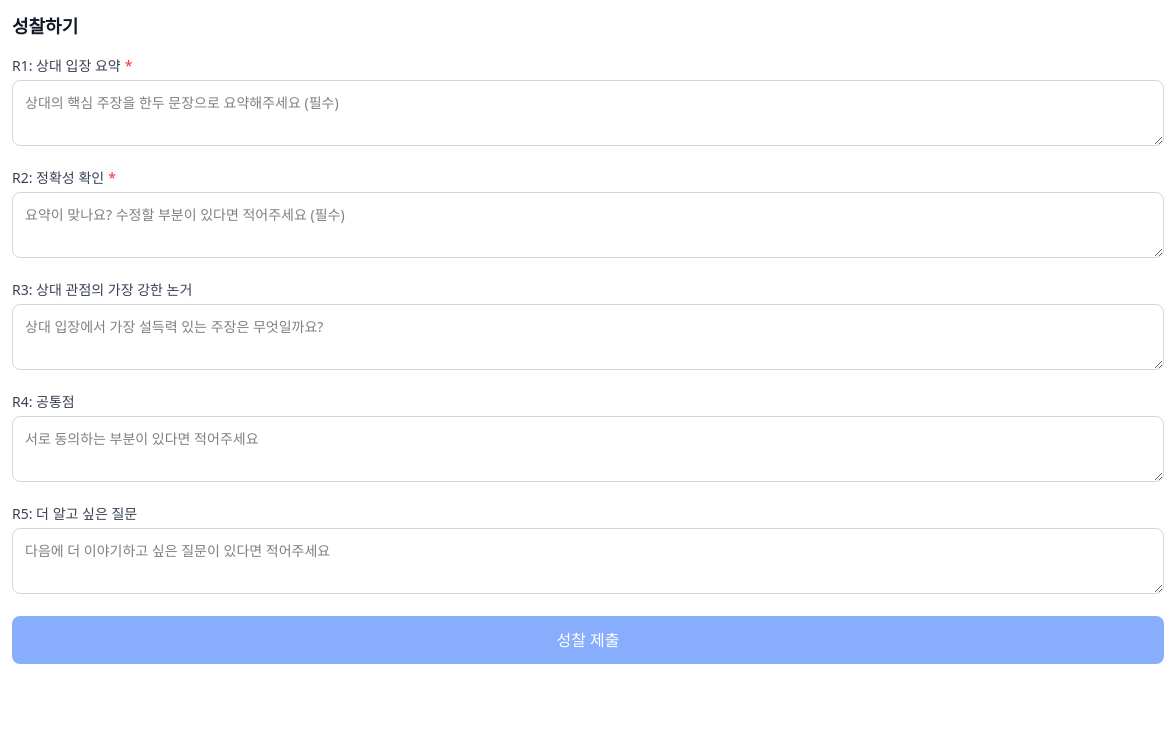
it: ReflectionForm › enables submit when R1 and R2 are filled
The width and height of the screenshot is (1176, 732).
In the text box with placeholder "상대의 핵심 주장을 한두 문장으로 요약해주세요 (필수)": (588, 113) x1=12 y1=80 x2=1164 y2=146, type "요약 내용"
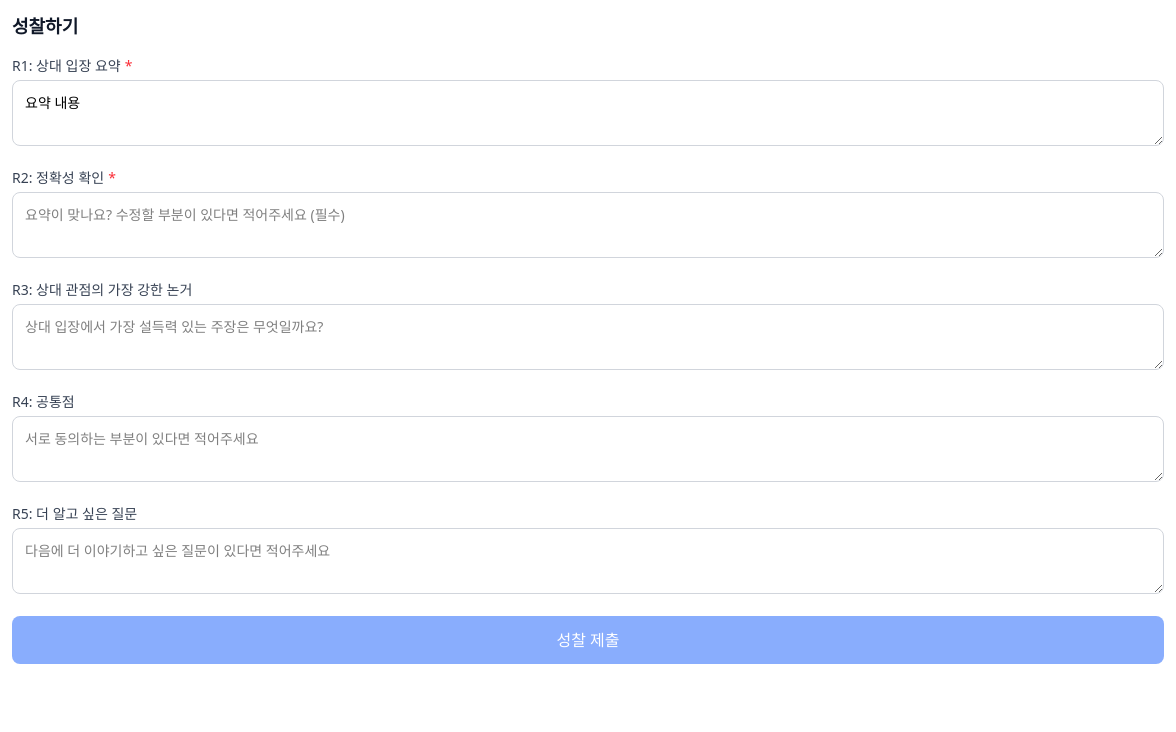
In the text box with placeholder "요약이 맞나요? 수정할 부분이 있다면 적어주세요 (필수)": (588, 225) x1=12 y1=192 x2=1164 y2=258, type "정확합니다"
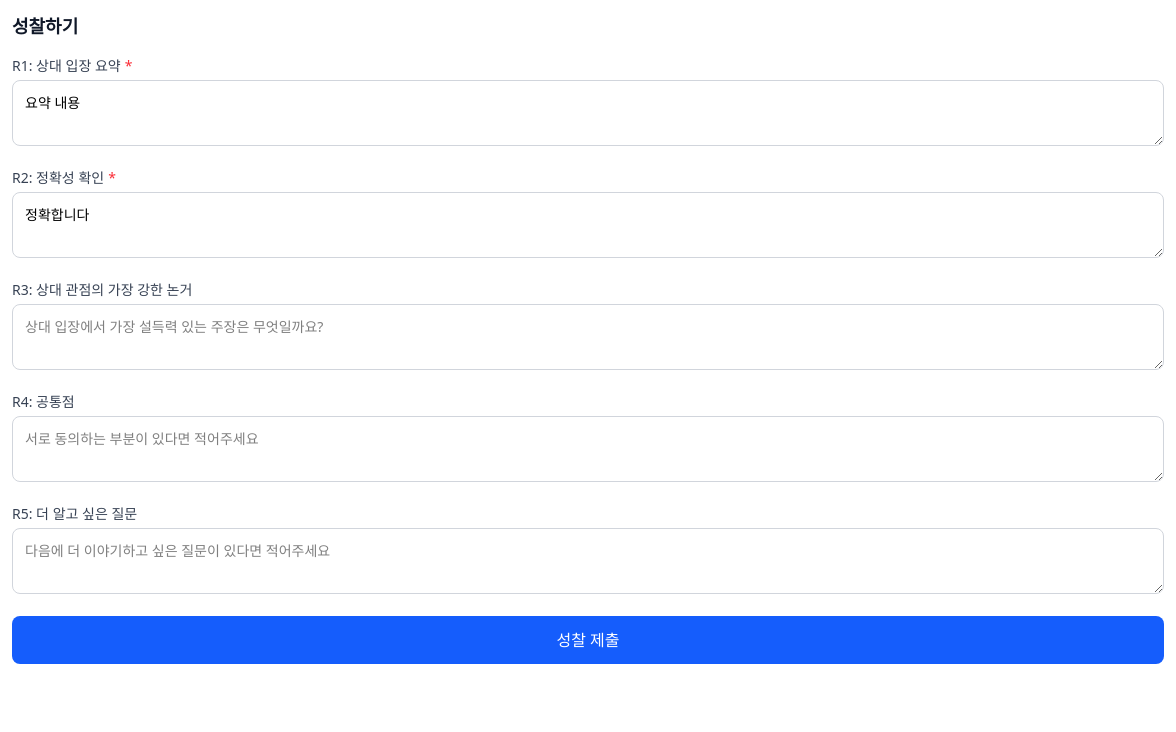
Result: the button "성찰 제출" is enabled at x1=12 y1=616 x2=1164 y2=664
